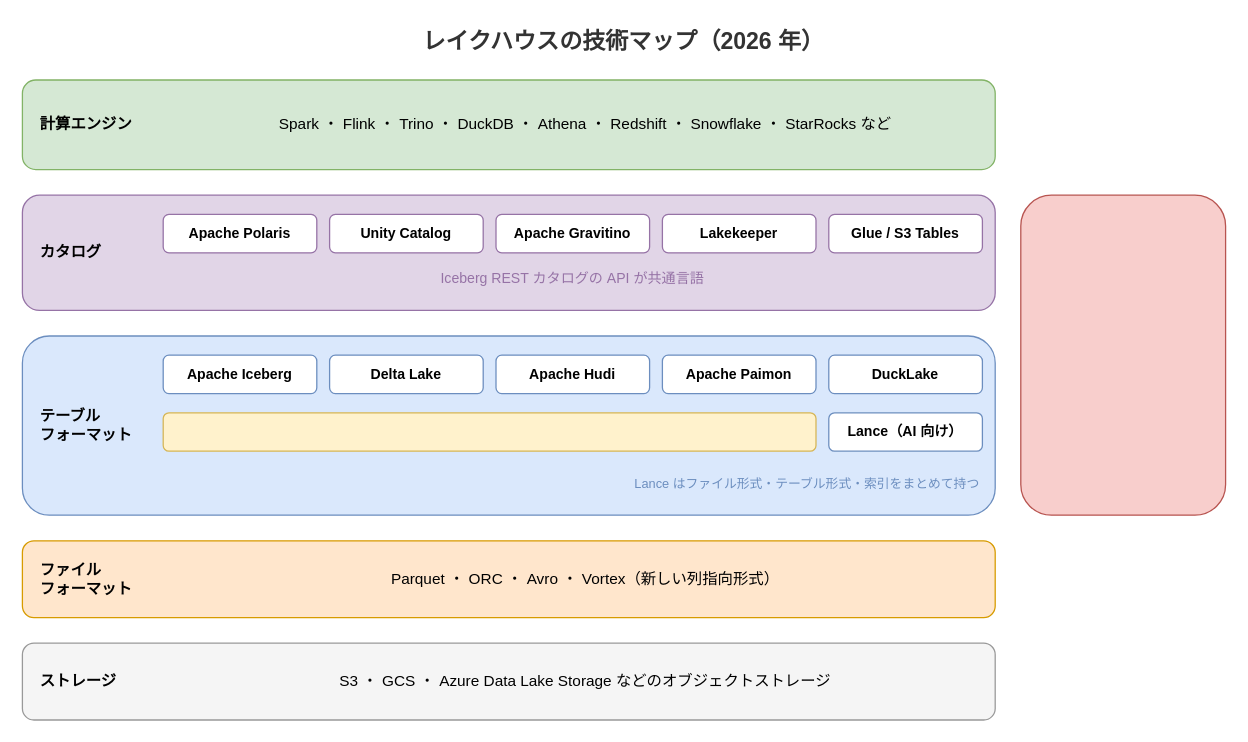
Some shapes in this 1248 by 742 pixel diagram are drawn without their labels. Each missing label, with the centre of its shape:
ストリーミング Apache Fluss 最新データを保持し、 Paimon / Iceberg の 履歴とまとめて読む: the point at 1123,354
相互運用：Apache XTable（メタデータを変換）・Delta UniForm: the point at 489,431
